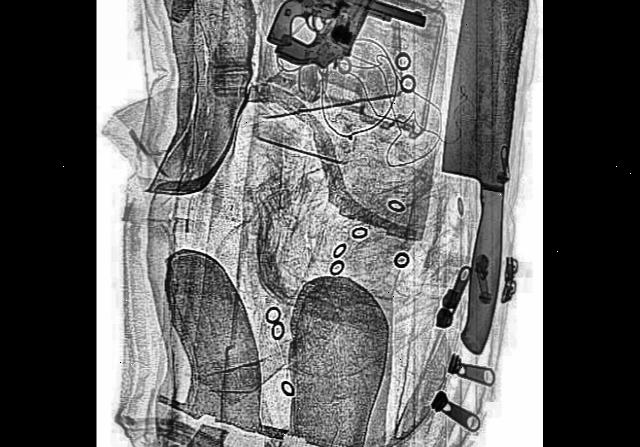Gun: (264, 0, 425, 95), (272, 0, 388, 109)
Knife: (412, 0, 542, 359)
